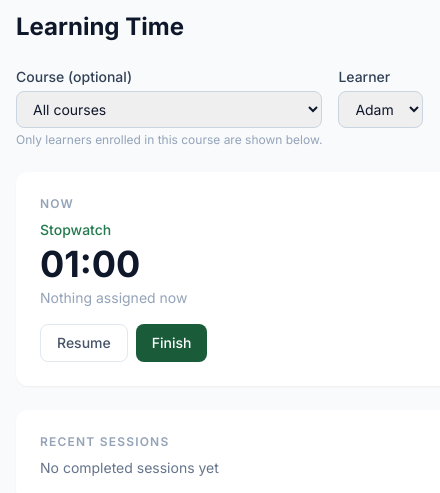
Test: LearningTimePage › "Resume" transitions a paused stopwatch session back to Running
Expected: the element with test id "now-card-paused" is shown, 40,196 -> 207,362
Step 1. Click the button with test id "resume-button" → click(84, 343), box 40,324 -> 128,362
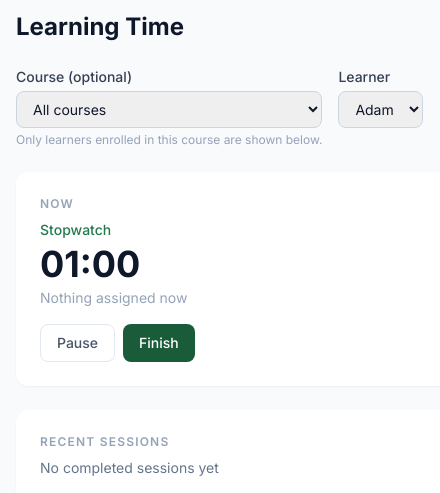
Result: the element with test id "now-card-running" is shown at 40,196 -> 195,362
Result: the button with test id "pause-button" is shown at 40,324 -> 115,362
